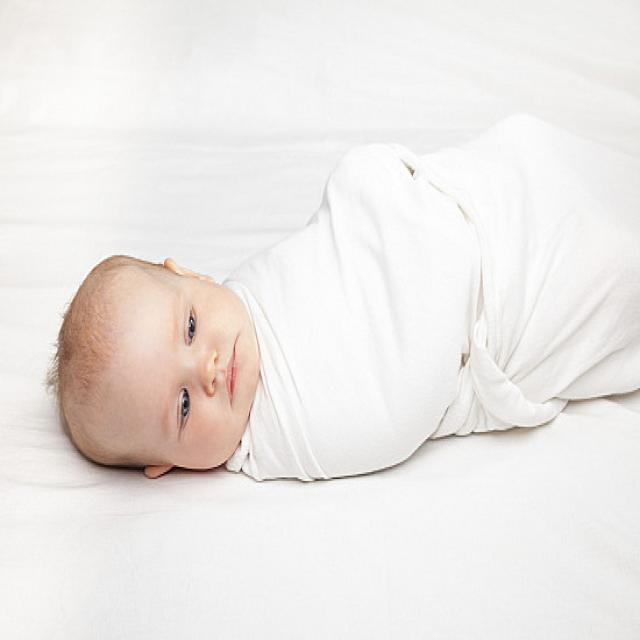child: (49, 140, 640, 480)
